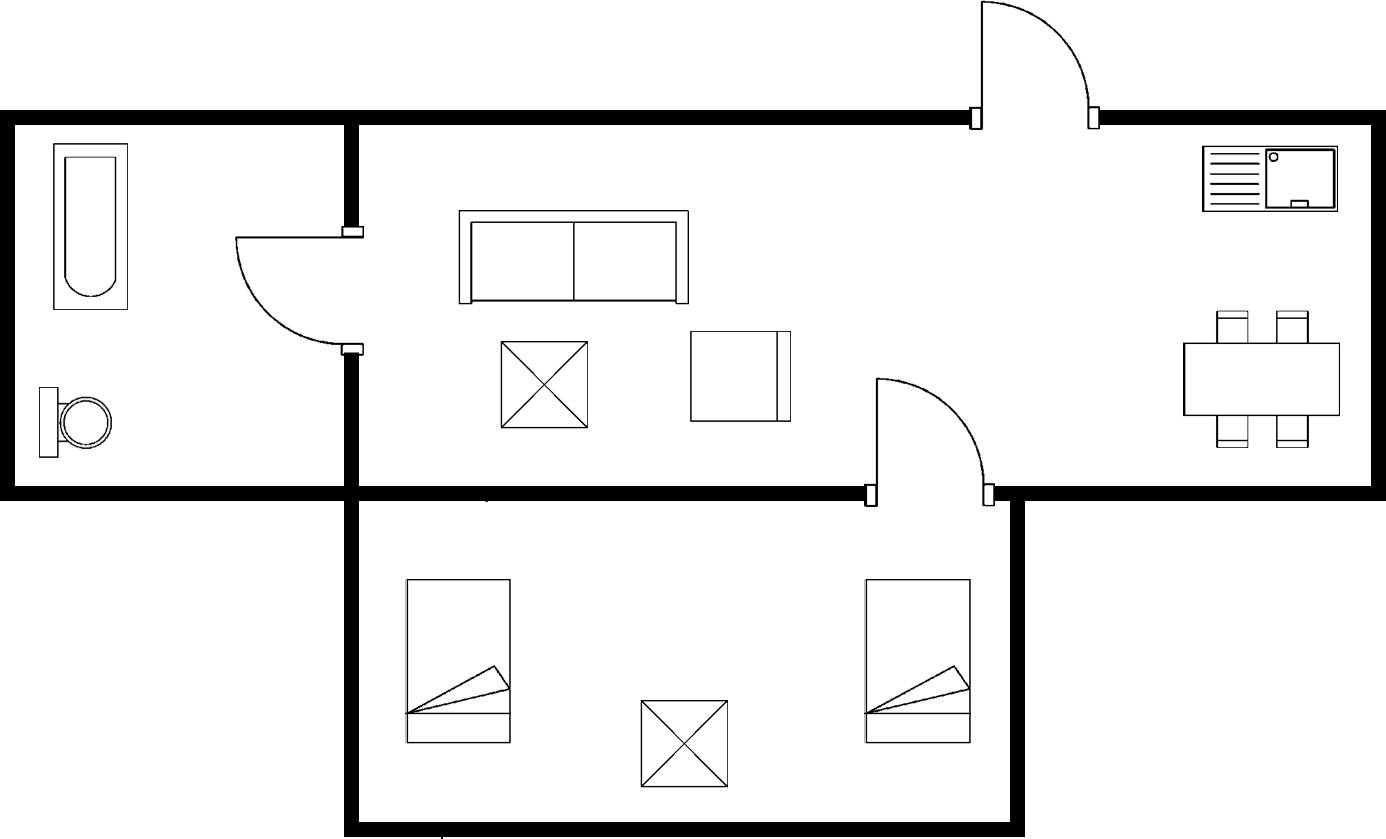bed: (860, 571, 977, 749), (401, 573, 516, 749)
coffee_table: (494, 336, 595, 434), (636, 695, 735, 794)
dining_table: (1174, 301, 1349, 454)
large_sink: (33, 383, 117, 462)
large_sofa: (452, 205, 699, 312)
sink: (1194, 139, 1344, 222)
small_sofa: (685, 327, 796, 428)
tub: (48, 138, 135, 316)
